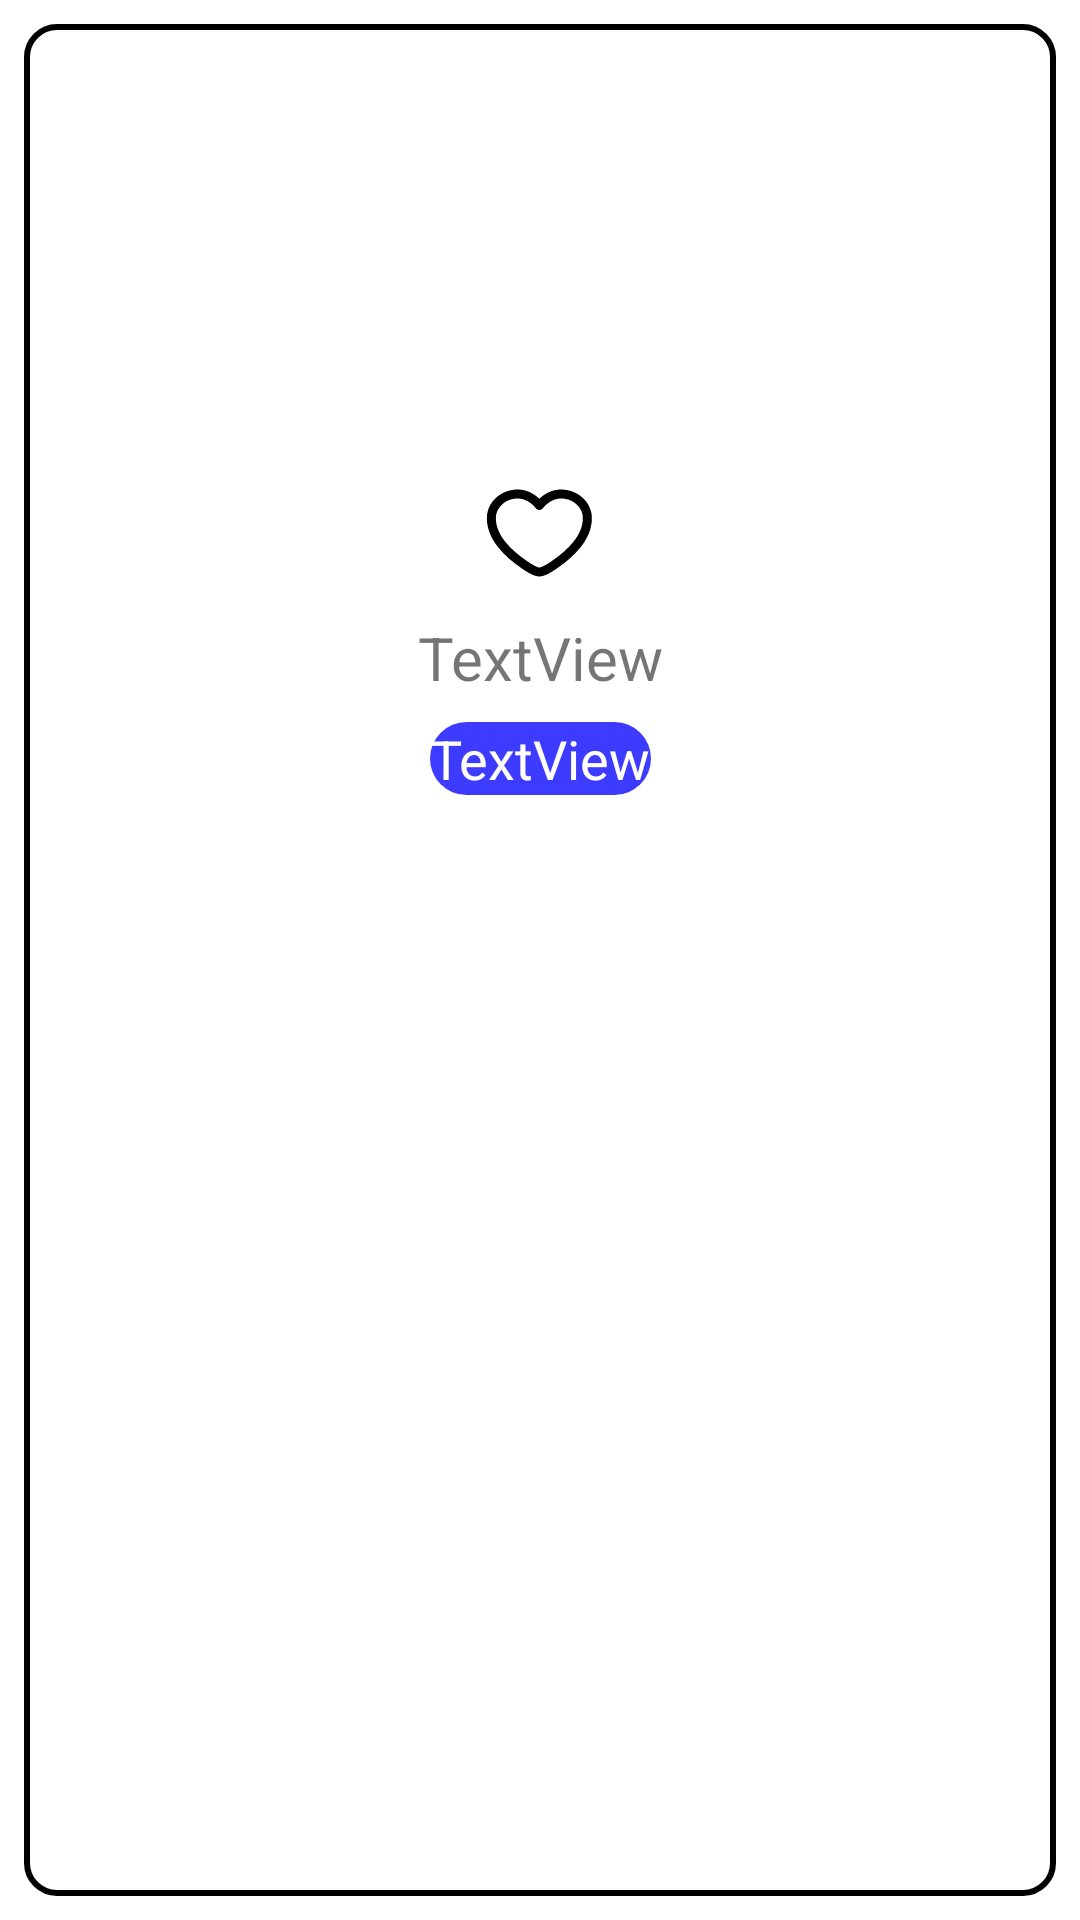

Icons on this 1080*1920 Android screen, each with the point to tap as point (x, y):
heart: point (539, 533)
